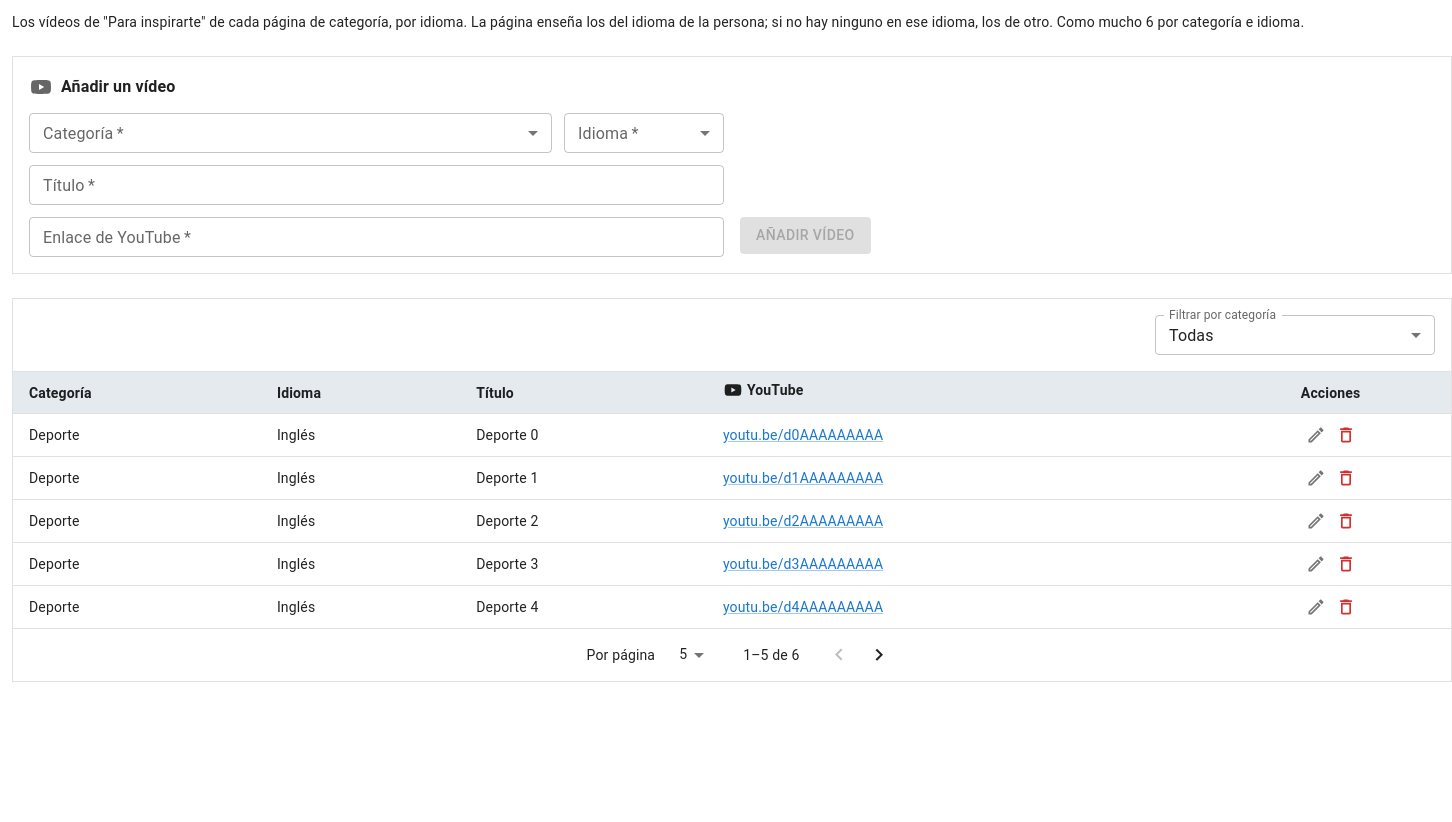
AdminVideos (ADM-04) › si la última página se queda sin filas (al borrar su único vídeo), vuelve a la anterior en lugar de quedarse vacía
The image size is (1452, 822).
Click the button named "Go to next page": [879, 655] box x1=859 y1=635 x2=899 y2=675
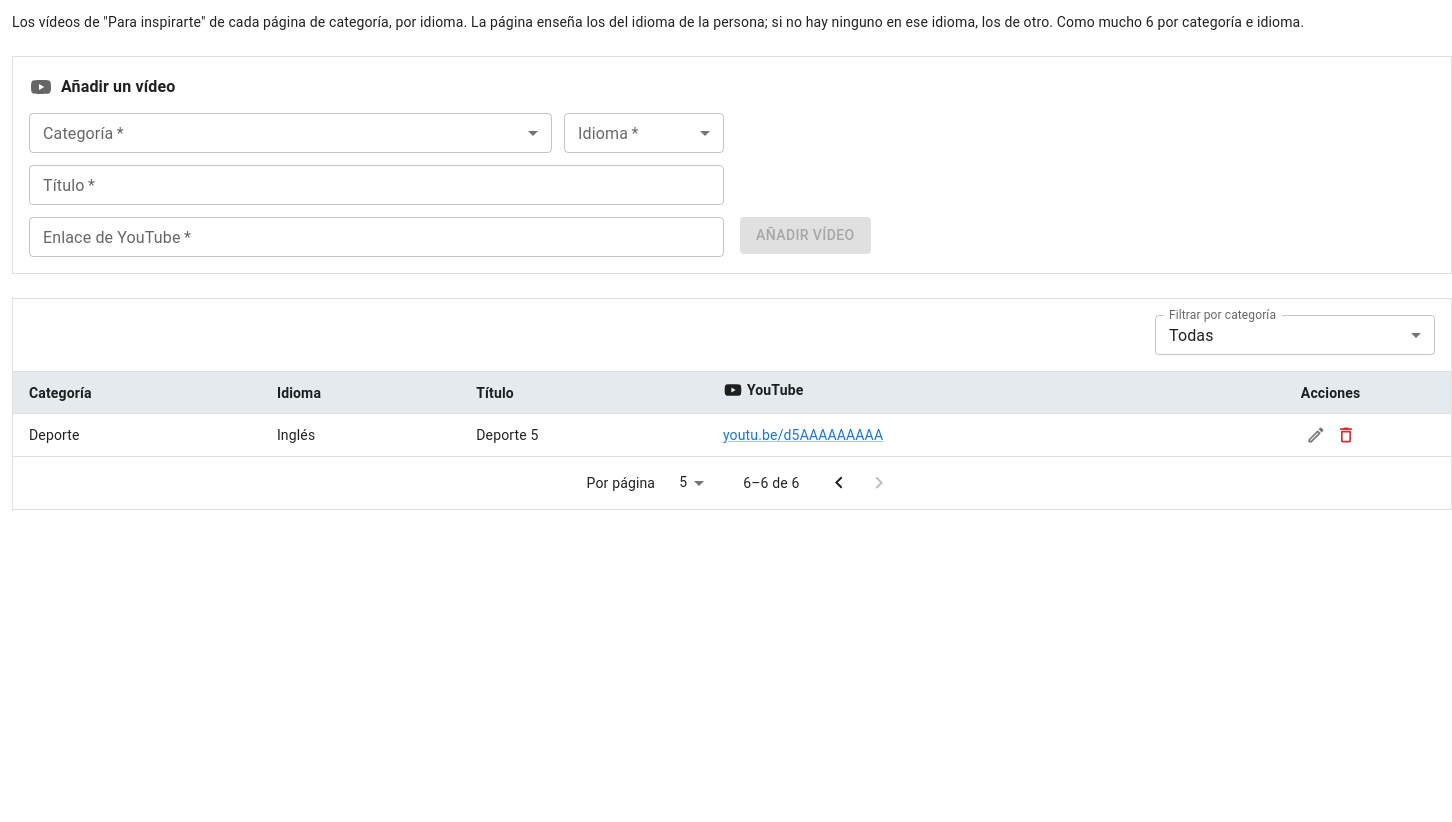
Click the button named "borrar": [1346, 435] box x1=1331 y1=420 x2=1361 y2=450
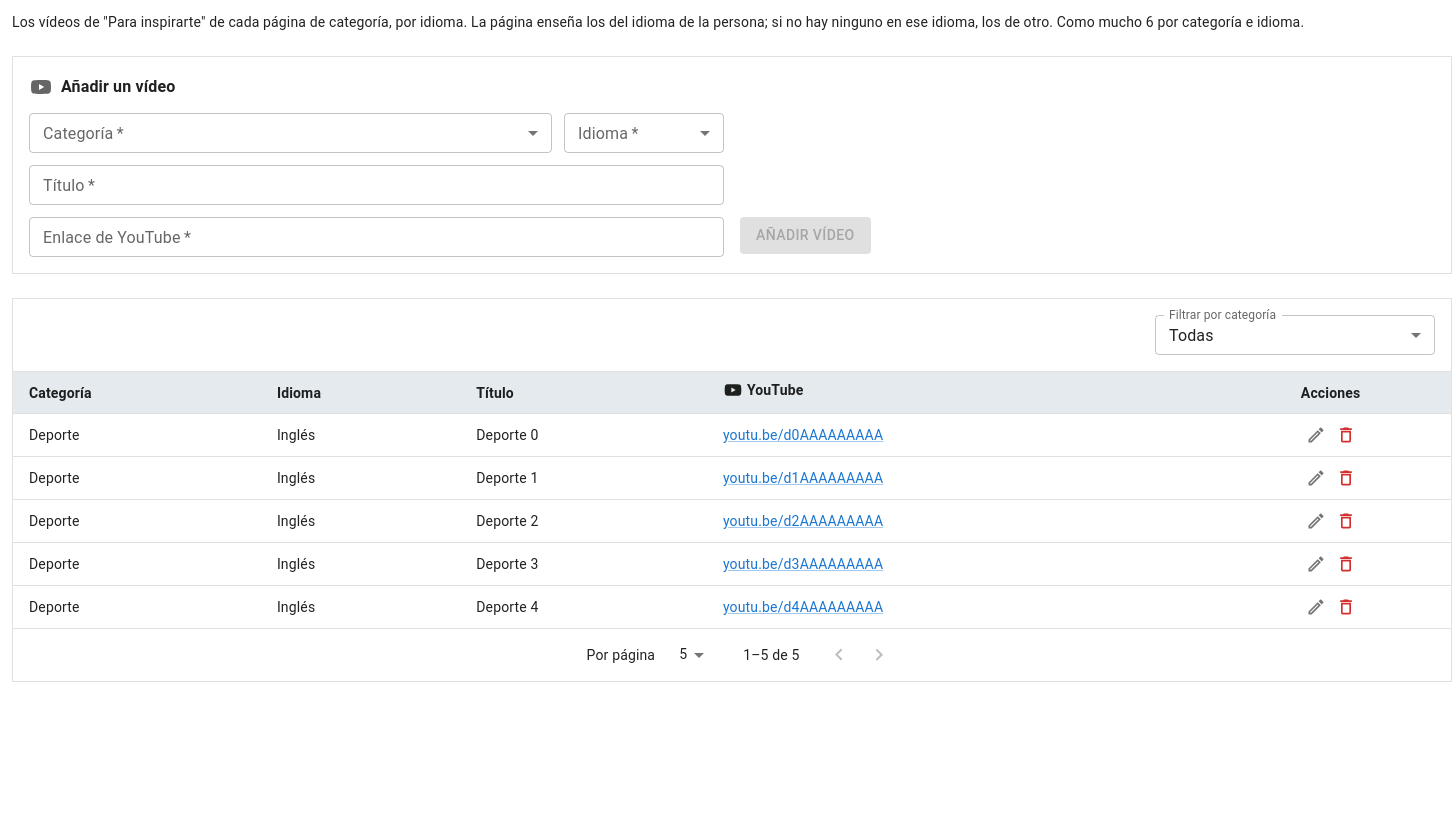
Expected: the number of rows is 6, x1=13 y1=372 x2=1451 y2=414; x1=13 y1=414 x2=1451 y2=456; x1=13 y1=456 x2=1451 y2=500; x1=13 y1=500 x2=1451 y2=542; x1=13 y1=542 x2=1451 y2=586; x1=13 y1=586 x2=1451 y2=628
